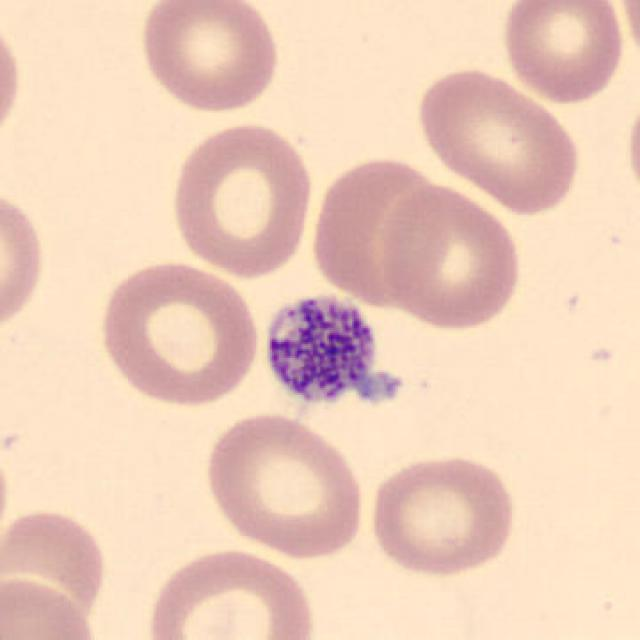Platelets: (258, 287, 378, 409), (357, 368, 407, 406)
RBC: (199, 407, 370, 561), (412, 64, 585, 215), (93, 256, 263, 409), (165, 117, 318, 280), (306, 150, 452, 310), (379, 180, 526, 333), (365, 450, 519, 580), (142, 543, 322, 640), (135, 0, 284, 116), (0, 502, 112, 633), (496, 0, 629, 106), (0, 182, 48, 342), (0, 571, 100, 640), (0, 10, 25, 154), (622, 83, 640, 213), (613, 0, 639, 72), (0, 425, 12, 573)
